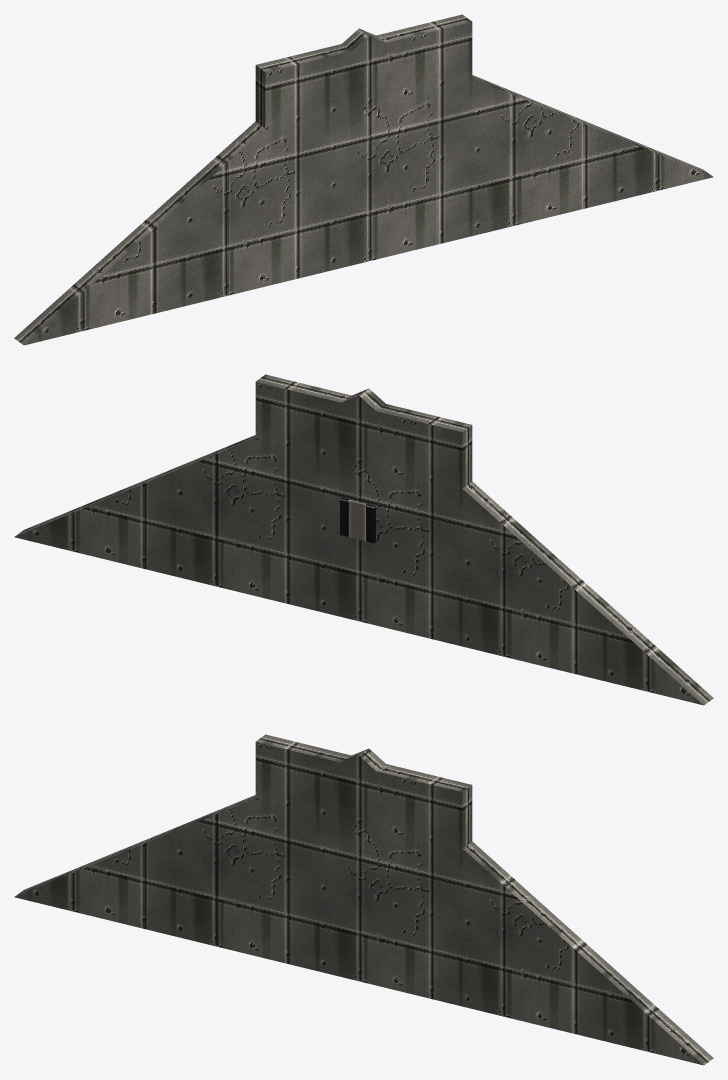
The model's file is gable_concrete_12.glb.
3 renders of one model, top to bottom at view 1: azimuth 30°, elevation 25°; view 2: azimuth 150°, elevation 25°; view 3: azimuth 330°, elevation 25°, orthographic.
Visible parts, largest first — view 1: gable_concrete_12_mesh, gable_concrete_12_col-colonly.001; view 2: gable_concrete_12_mesh, gable_concrete_12_col-colonly.001; view 3: gable_concrete_12_mesh, gable_concrete_12_col-colonly.001.
Boxes of the visible parts, bbox=[...] form: gable_concrete_12_mesh: bbox=[14, 28, 713, 345]; gable_concrete_12_col-colonly.001: bbox=[255, 14, 472, 165]; gable_concrete_12_mesh: bbox=[14, 388, 713, 705]; gable_concrete_12_col-colonly.001: bbox=[255, 374, 472, 492]; gable_concrete_12_mesh: bbox=[14, 748, 713, 1065]; gable_concrete_12_col-colonly.001: bbox=[255, 734, 472, 848].
Size of what is drawn, in the model's own units: 12 by 3.75 by 0.355.
2 materials, 2 textured.
